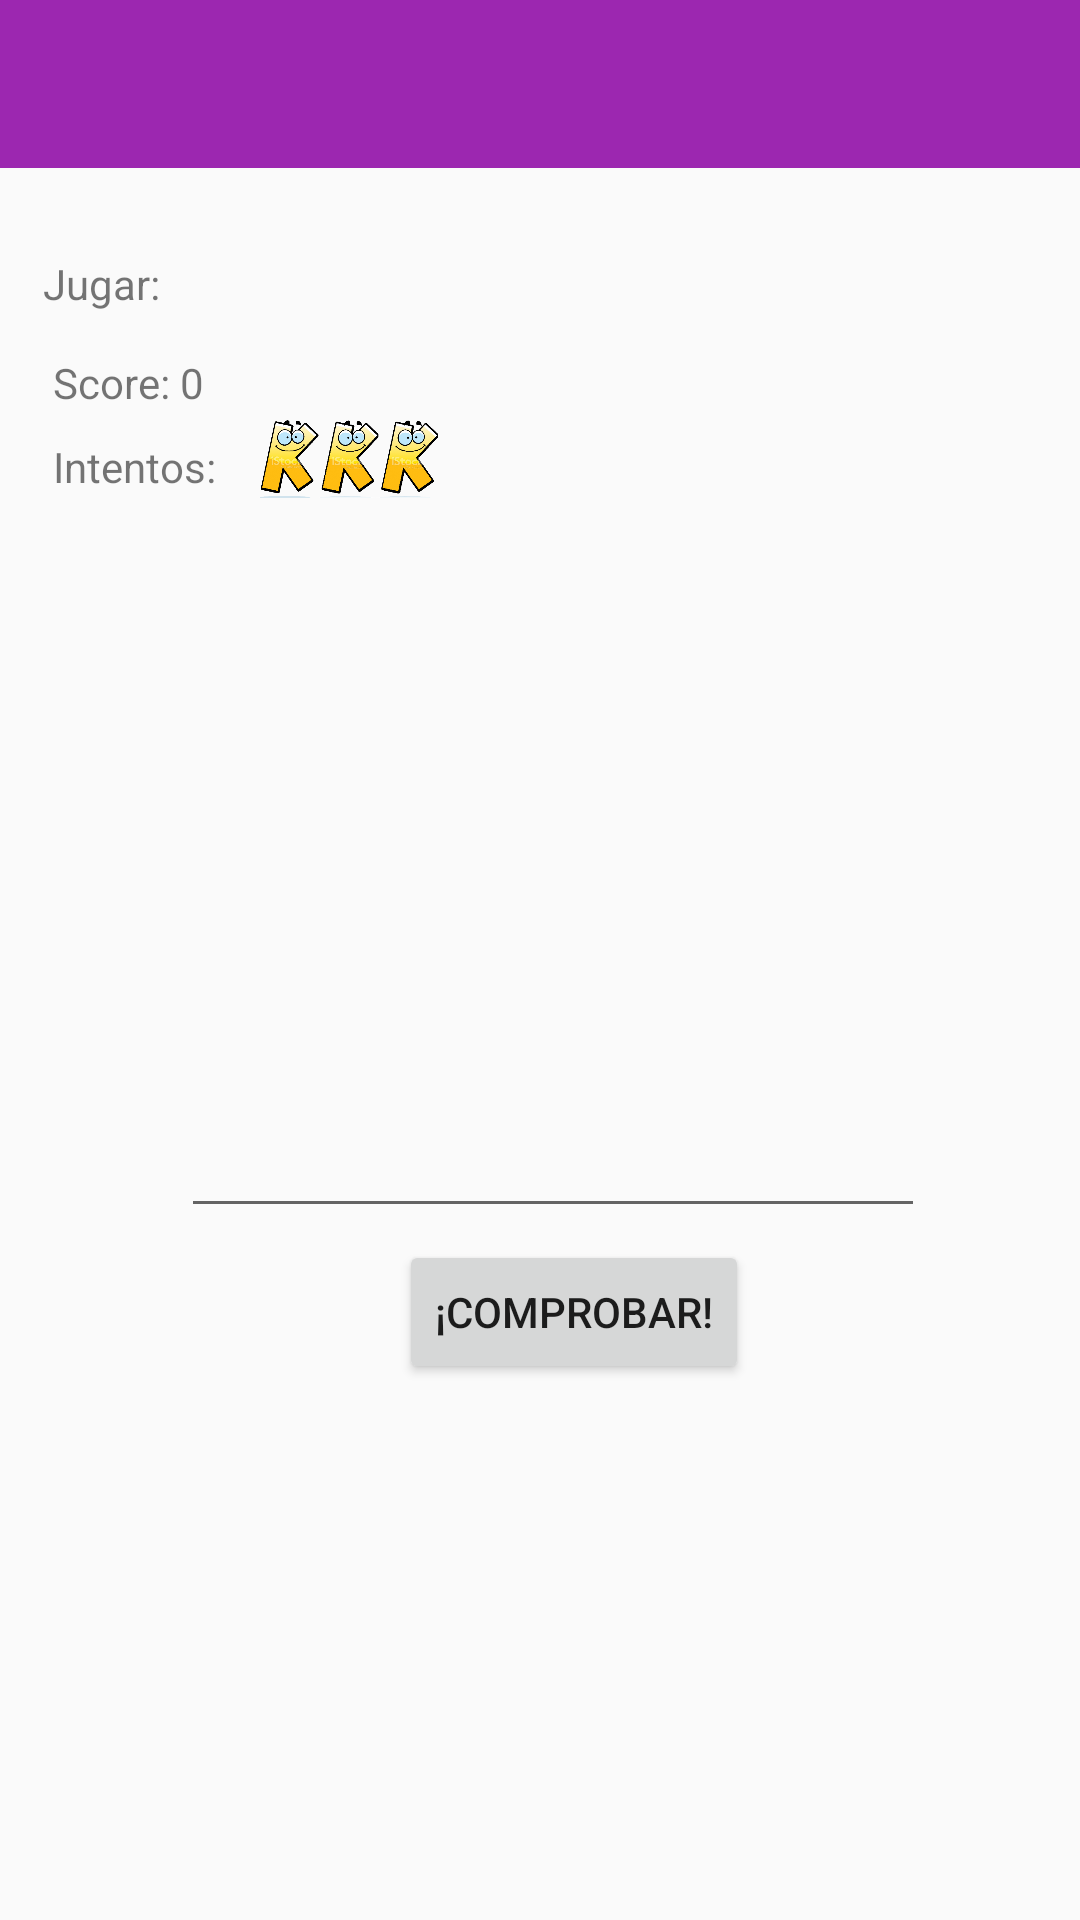

Locate icon controls on the screen. Image size 1080x1920, boxes as [x1,y1,x2,y2].
tresvidask: [260,420,438,498]
